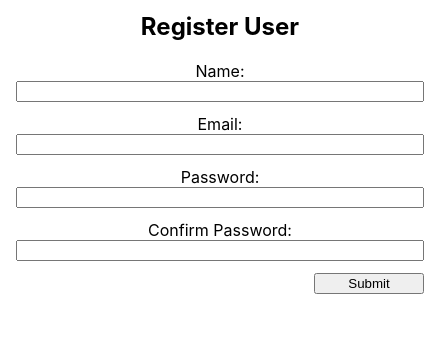
it: Form Submission Test › given a empty form, when filled, the submission should be acknowledged
Type "Victor Silva" into the field labelled "Name:" at (220, 91), box 16,81 -> 424,102
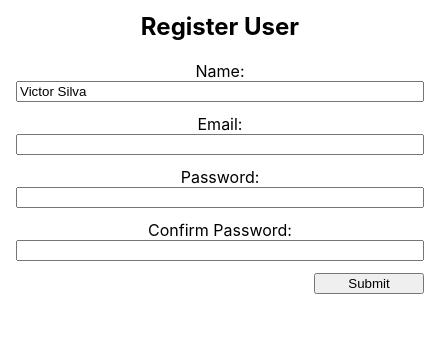
Type "victor@email.com" into the field labelled "Email:" at (220, 144), box 16,134 -> 424,155
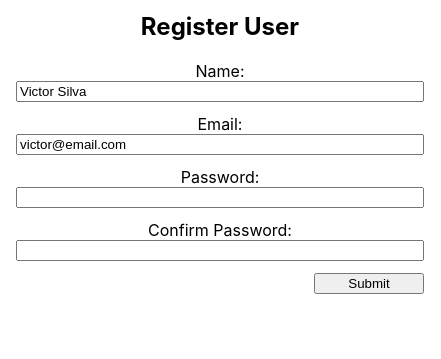
Type "Password123!" into the field labelled "Password:" at (220, 197), box 16,187 -> 424,208
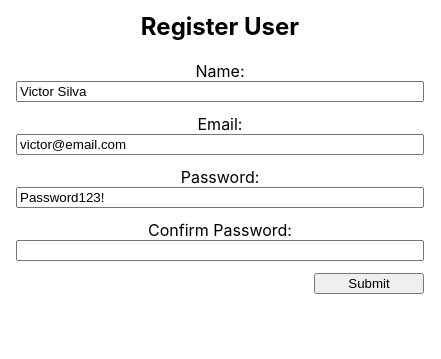
Type "Password123!" into the field labelled "Confirm Password:" at (220, 250), box 16,240 -> 424,261
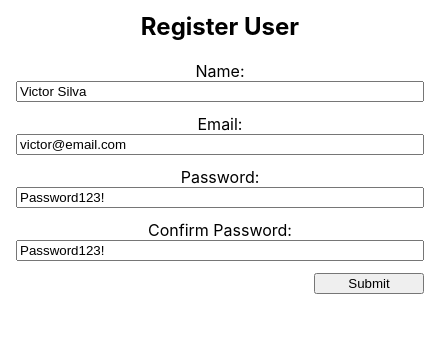
Click the button "Submit" at (369, 283), box 314,273 -> 424,294
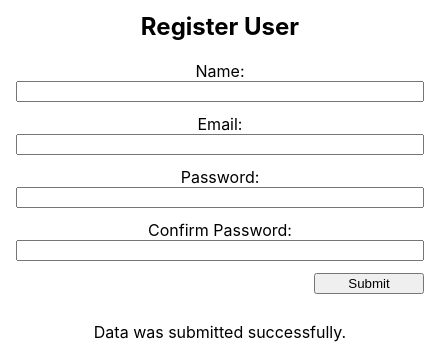
Expected: the text "Data was submitted successfully." is shown, 94,322 -> 346,342
